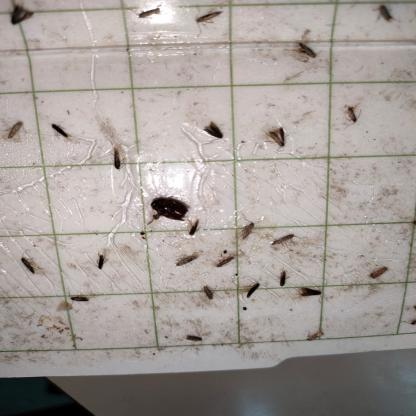prays_oleae: (281, 30, 327, 76), (18, 234, 44, 297), (196, 111, 230, 154), (104, 136, 131, 185), (341, 97, 366, 146), (266, 226, 304, 255), (300, 276, 329, 314), (191, 9, 225, 39), (260, 127, 292, 158), (172, 244, 200, 278), (206, 248, 239, 276), (90, 238, 112, 277), (8, 4, 34, 37), (7, 119, 32, 150), (47, 122, 72, 150), (68, 287, 97, 311), (368, 4, 396, 28), (242, 272, 263, 303), (198, 275, 218, 307), (181, 329, 212, 349), (133, 7, 167, 25), (186, 219, 207, 245), (233, 221, 256, 244), (273, 267, 291, 296), (370, 260, 390, 286)
